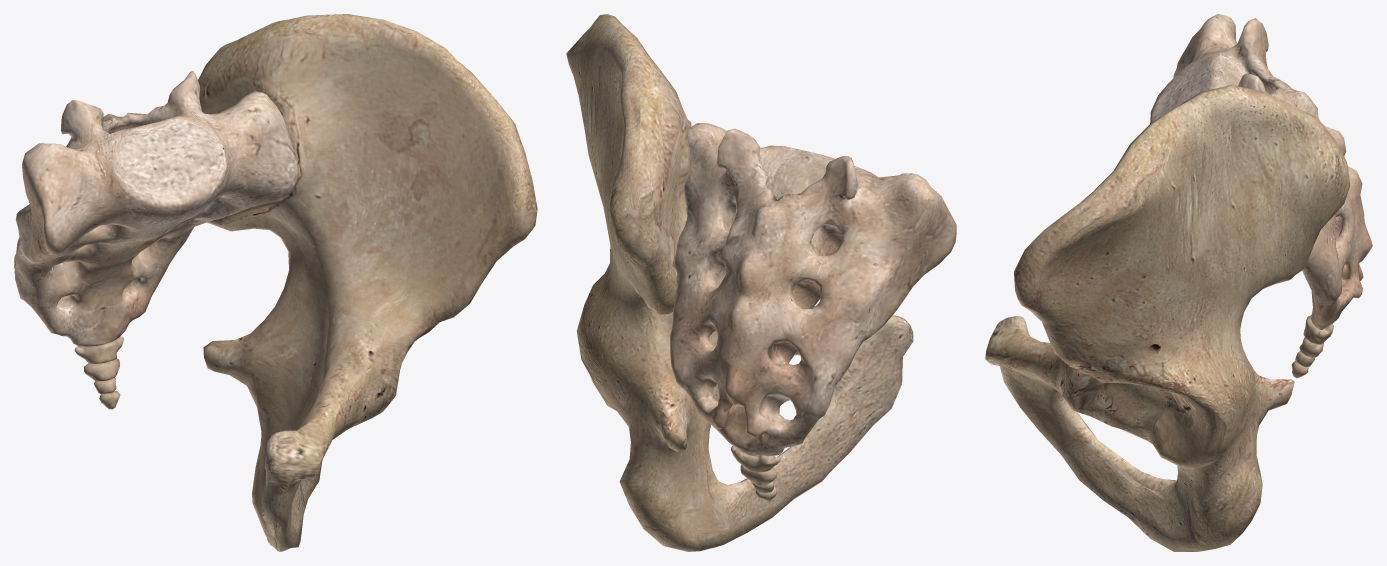
The model's file is Legs.151.obj.
3 views of the same model, side by side, from view 1: azimuth 30°, elevation 25°; view 2: azimuth 150°, elevation 25°; view 3: azimuth 270°, elevation 25° (orthographic). The views are drawn at different scales.
Visible parts, largest first — view 1: Legs.151_Arms.151; view 2: Legs.151_Arms.151; view 3: Legs.151_Arms.151.
Part boxes in pixels (bbox=[...]): Legs.151_Arms.151: bbox=[14, 14, 537, 551]; Legs.151_Arms.151: bbox=[566, 14, 956, 551]; Legs.151_Arms.151: bbox=[985, 14, 1372, 551].
Size of the model in its own units: 1.07 by 1.22 by 0.8775.
